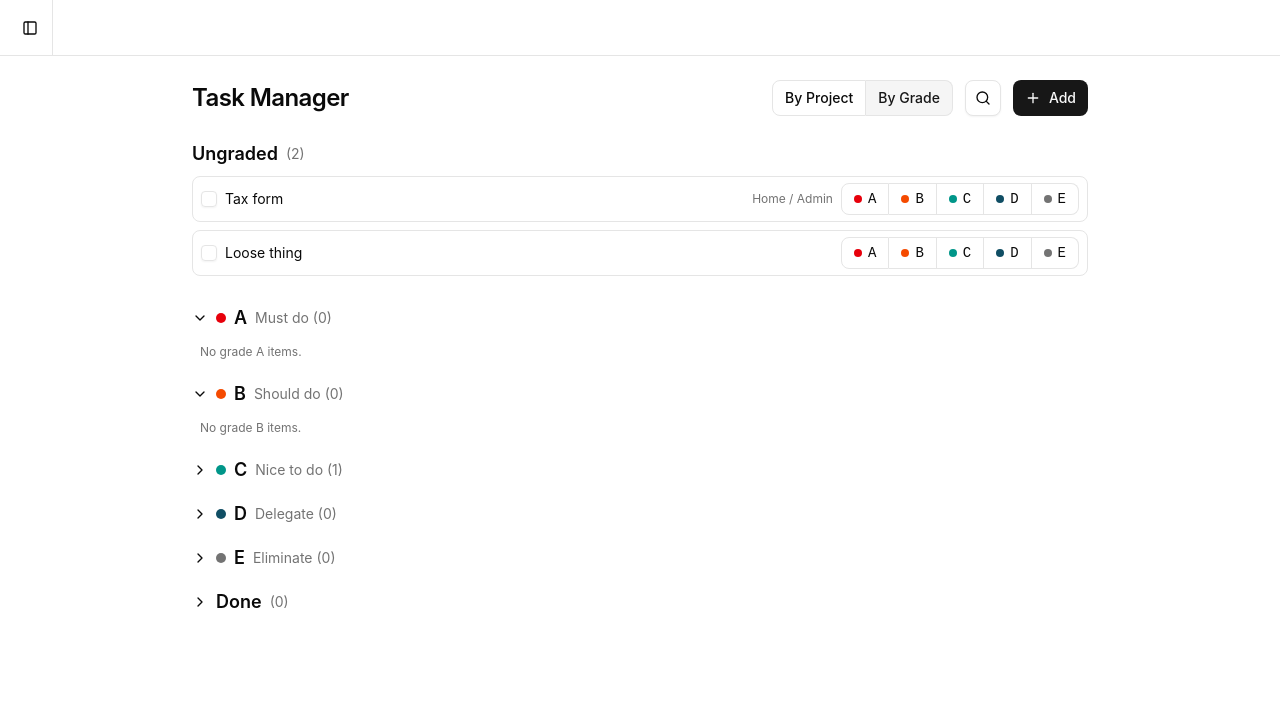
Test case: Task Manager: capture and grading › collapsed grade groups show their count and can be expanded
This screenshot has width=1280, height=720.
Expected: the text "Call accountant" is not shown
Click the button "C Nice to do (1)".
click(289, 470)  # box [192, 452, 1088, 488]
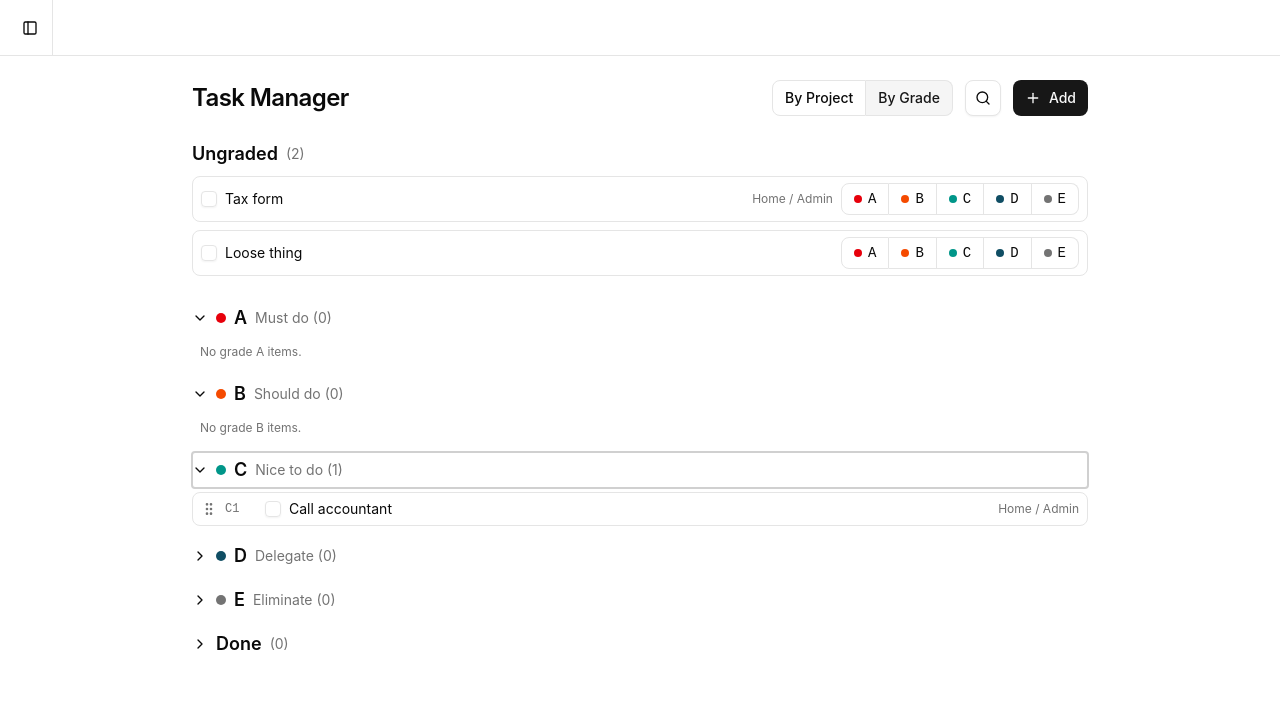
Now the button "Call accountant" is shown, box [289, 499, 990, 519]
